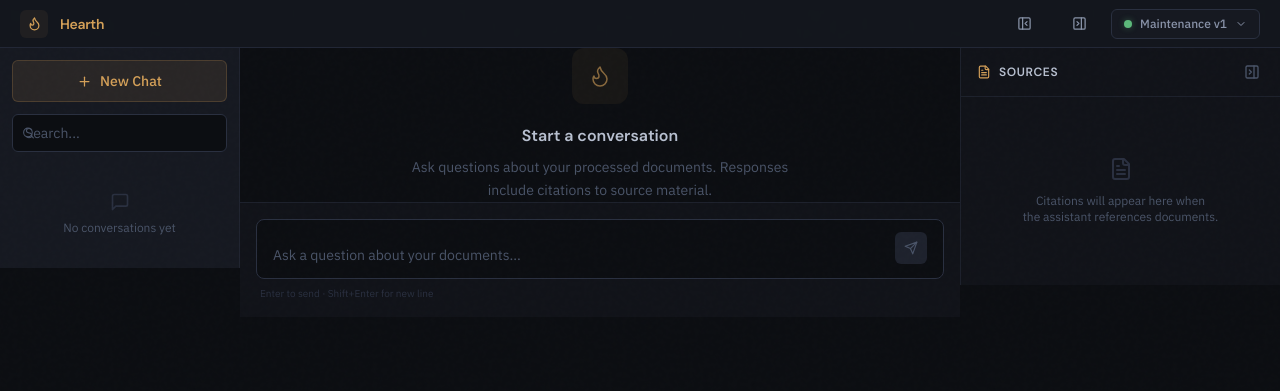
it: HearthLayout wiring › sends a query and renders the assistant response with citations
This screenshot has width=1280, height=391.
Step 1. Type "How do I PMCS the engine?" into the text box with placeholder "Ask a question about your documents..." → (578, 254), box x1=273 y1=244 x2=883 y2=266
Then press Enter
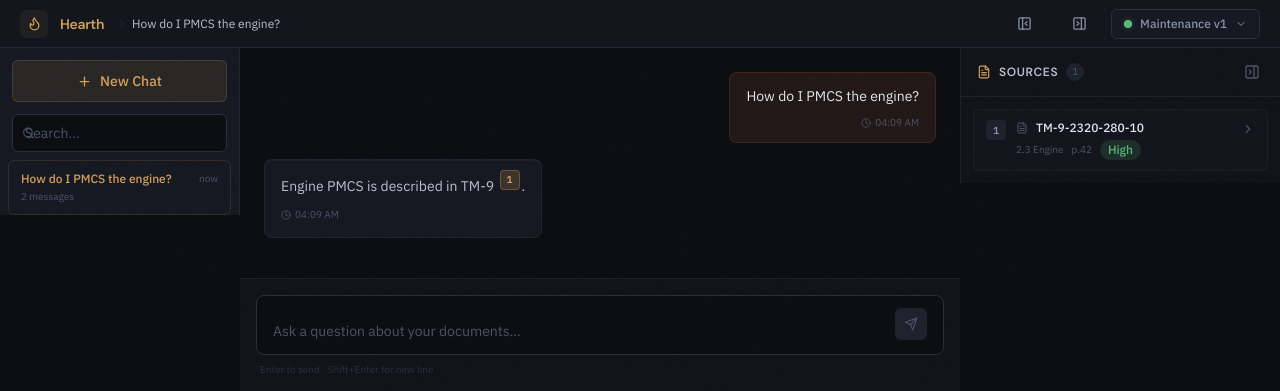
Check: the text "How do I PMCS the engine?" next to "Hearth" is shown, box x1=132 y1=16 x2=280 y2=30
Check: the text "Engine PMCS is described in TM-9" is shown, box x1=281 y1=176 x2=498 y2=194
